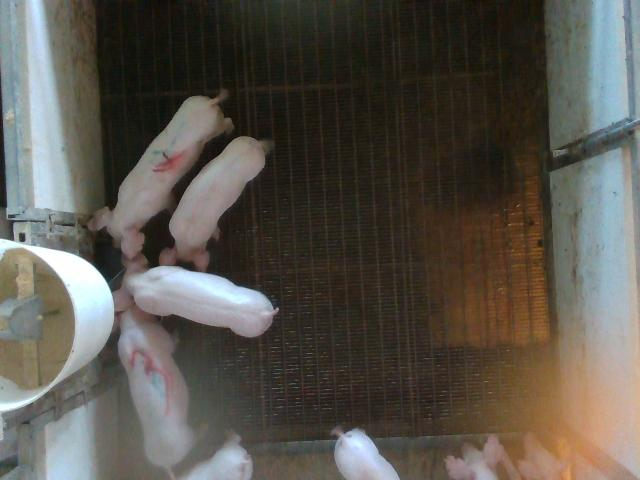pig-3: (119, 305, 196, 476)
pig-4: (90, 91, 234, 261)
